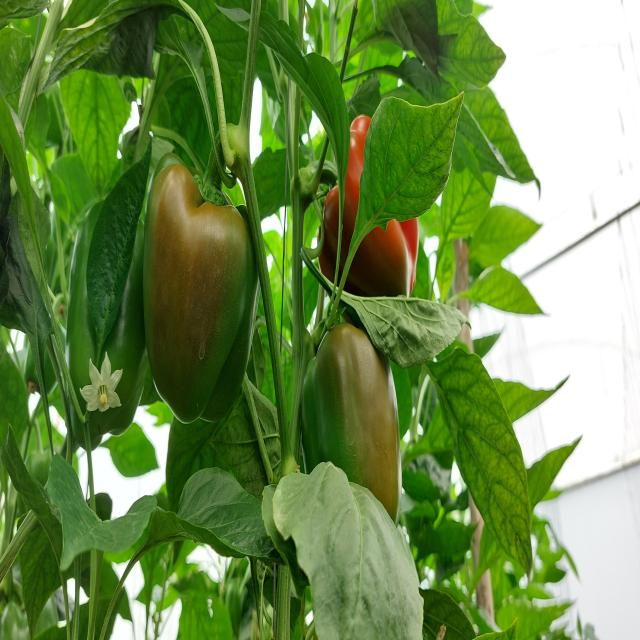BrownishRed--Can-be-Harvested: (140, 158, 263, 432), (298, 332, 400, 548), (316, 118, 424, 298)
